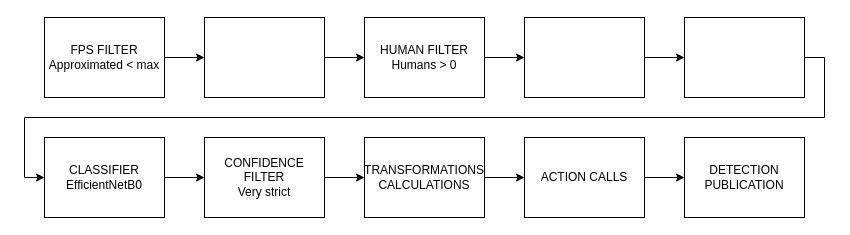
This 850x235 diagram has some shape labels left out. The shapes that lost their labels are listed below. From the top down, each one's box as (x1, y1, x2, y2) in pixels, then its label:
(204, 16, 324, 98): POSE ESTIMATION
(524, 16, 644, 98): HUMAN SELECTION Minimum depth
(684, 16, 804, 98): DEPTH FILTER 1m < Depth < 7m
